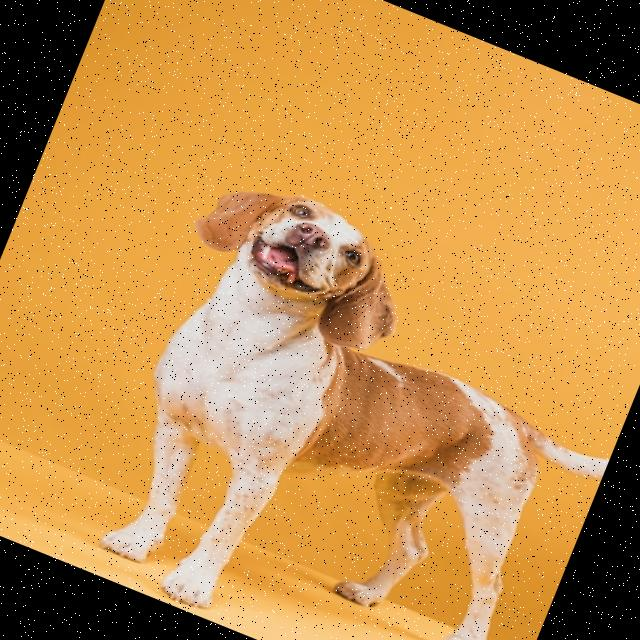Dog: (61, 159, 640, 640)
